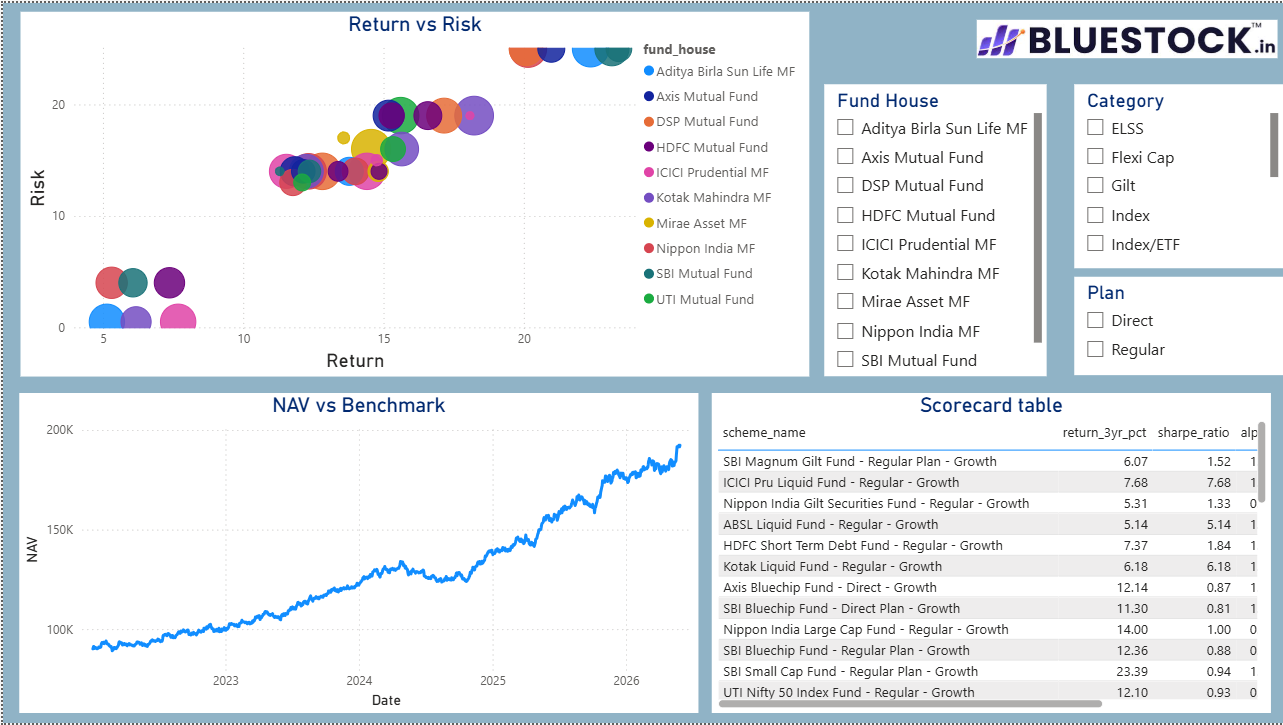

Layout of this report page (visuals, bound fields, positions):
{"tool":"powerbi","page":{"name":"Fund Performance","canvas":[1280,720],"ordinal":1},"visuals":[{"type":"scatterChart","title":"Return vs Risk","fields":{"X":["Sum(07_scheme_performance_clean.return_3yr_pct)"],"Y":["Sum(07_scheme_performance_clean.std_dev_ann_pct)"],"Size":["Sum(07_scheme_performance_clean.aum_crore)"],"Series":["07_scheme_performance_clean.fund_house"],"Category":["07_scheme_performance_clean.scheme_name"]},"box":[17.1,8.6,788.7,364.4],"z":0},{"type":"tableEx","title":"Scorecard table","fields":{"Values":["07_scheme_performance_clean.scheme_name","07_scheme_performance_clean.return_3yr_pct","07_scheme_performance_clean.sharpe_ratio","07_scheme_performance_clean.alpha","07_scheme_performance_clean.beta","fund_scorecard.fund_score","fund_scorecard.overall_rank"]},"box":[708.2,389.6,559.3,320],"z":1000},{"type":"lineChart","title":"NAV vs Benchmark","fields":{"Category":["10_benchmark_indices_clean.date"],"Y":["Sum(10_benchmark_indices_clean.close_value)"]},"box":[16.7,389.6,679,320],"z":2000},{"type":"slicer","fields":{"Values":["07_scheme_performance_clean.fund_house"]},"box":[820.9,80.7,222.6,292.2],"z":3000},{"type":"slicer","fields":{"Values":["07_scheme_performance_clean.category"]},"box":[1071.3,80.7,208.7,183.7],"z":4000},{"type":"slicer","title":"Plan","fields":{"Values":["07_scheme_performance_clean.plan"]},"box":[1071.3,274.1,208.7,98.8],"z":5000},{"type":"image","box":[973.9,0,300.5,72.3],"z":5001}]}

Visuals, with their boxes in screenshot pixels (x1, y1, x2, y2), scaled from the page's 1280x720 canvas onto the 1283x725 screenshot:
"Return vs Risk" scatterChart: bbox(17, 9, 808, 376)
"Scorecard table" tableEx: bbox(710, 392, 1270, 715)
"NAV vs Benchmark" lineChart: bbox(17, 392, 697, 715)
slicer - 07_scheme_performance_clean.fund_house: bbox(823, 81, 1046, 375)
slicer - 07_scheme_performance_clean.category: bbox(1074, 81, 1282, 266)
"Plan" slicer: bbox(1074, 276, 1282, 375)
image: bbox(976, 0, 1277, 73)
